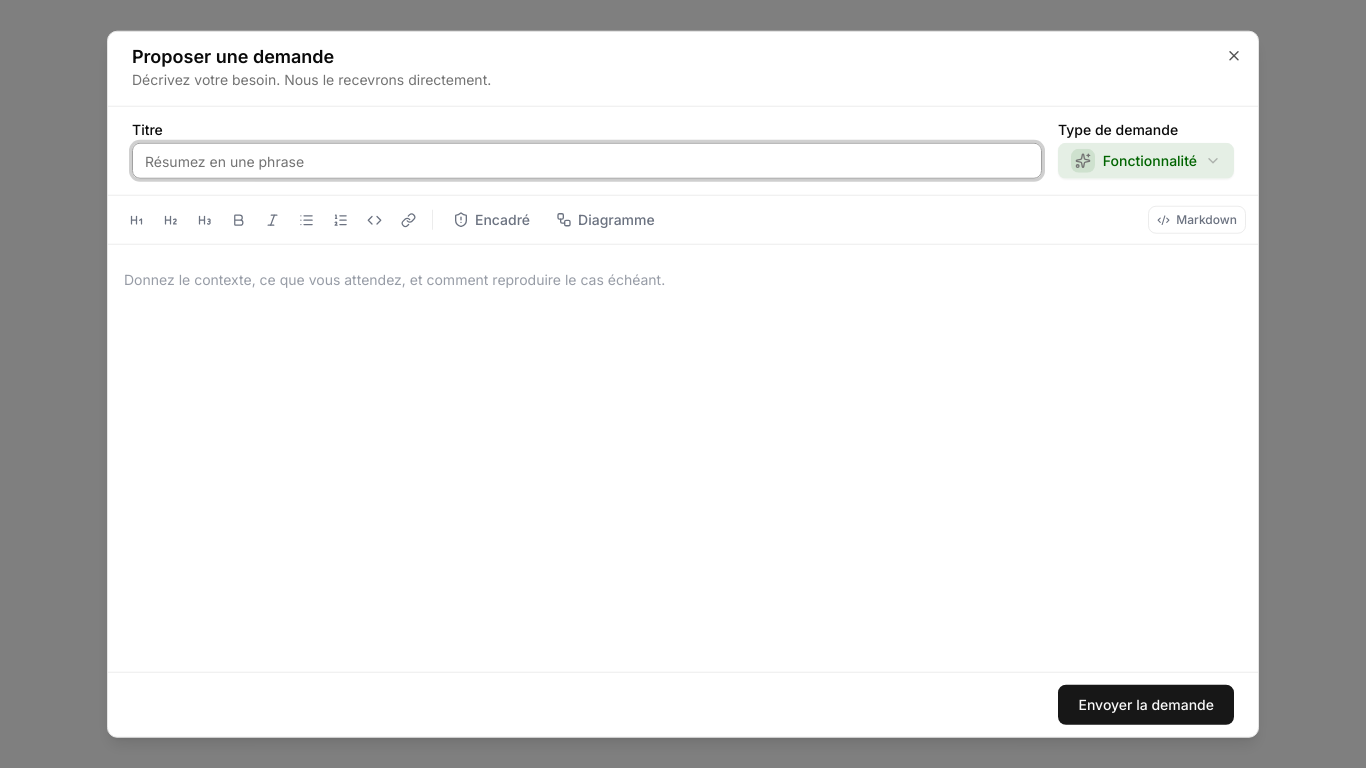
Scenario: request submission form (#53) › requires a title before submitting
The image size is (1366, 768).
Click the button "Envoyer la demande". click: (1146, 704)
box: [1058, 684, 1234, 724]
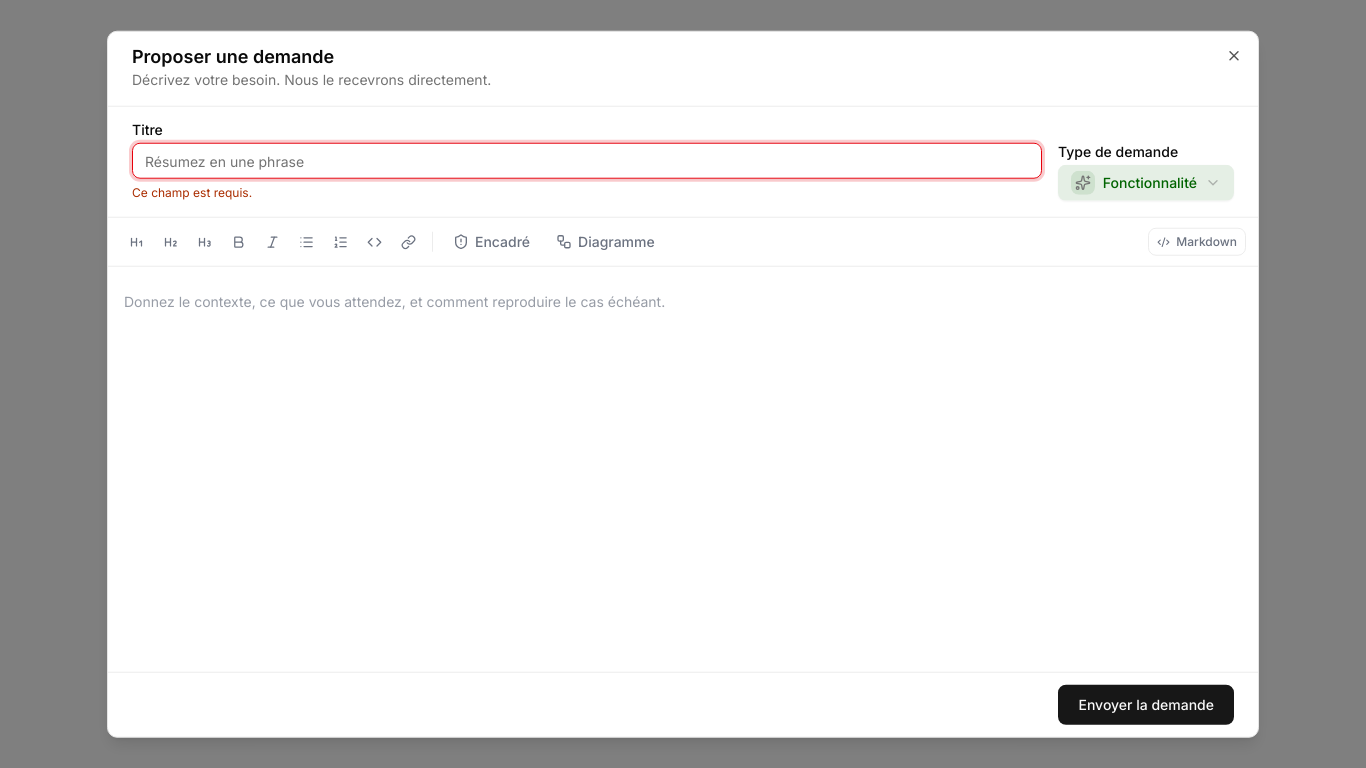
Expected: the field labelled "Titre" is shown, [132, 143, 1042, 179]
Expected: the text "Ce champ est requis." is shown, [132, 185, 252, 200]
